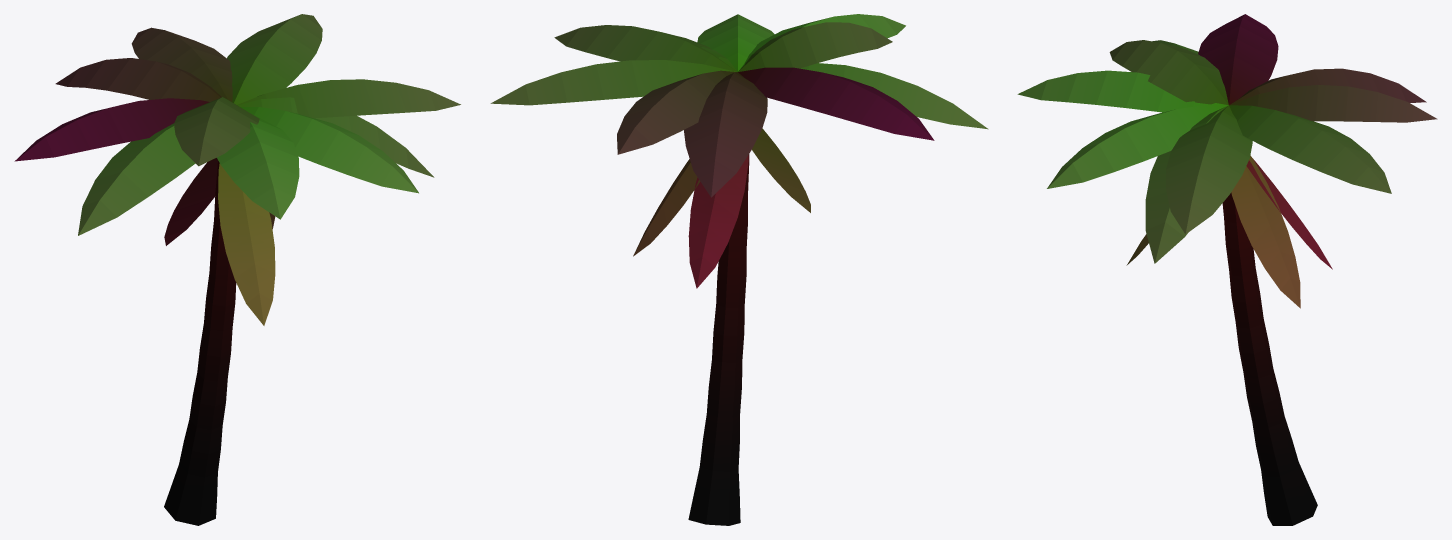
File: palm_b.glb
3 views of the same model, side by side, from view 1: azimuth 30°, elevation 25°; view 2: azimuth 150°, elevation 25°; view 3: azimuth 270°, elevation 25° (orthographic). The views are drawn at different scales.
Parts seen in each view (by area): view 1: Palm; view 2: Palm; view 3: Palm.
Part boxes in pixels (x1,y1,x2,y2): Palm: [14, 14, 460, 525]; Palm: [490, 14, 988, 525]; Palm: [1017, 14, 1437, 525].
Size of the model in its own units: 5.77 by 6.22 by 5.21.
